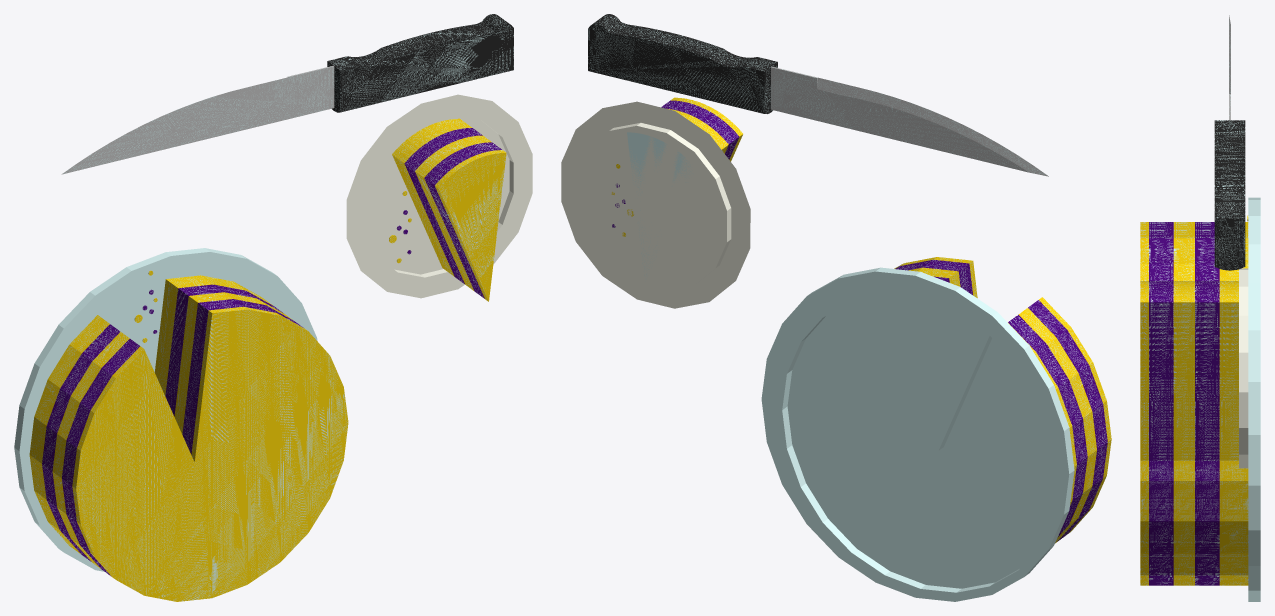
The picture shows the model from 3 angles, left to right: view 1: azimuth 30°, elevation 25°; view 2: azimuth 150°, elevation 25°; view 3: azimuth 270°, elevation 25°; orthographic projection. The views are drawn at different scales.
Parts seen in each view (by area): view 1: blueberry cheese cake; view 2: blueberry cheese cake; view 3: blueberry cheese cake.
Part boxes in pixels (bbox=[...]): blueberry cheese cake: bbox=[14, 14, 532, 601]; blueberry cheese cake: bbox=[561, 14, 1111, 601]; blueberry cheese cake: bbox=[1140, 15, 1260, 601].
Bounding box in the file's own units: 349 × 316 × 61.5.
